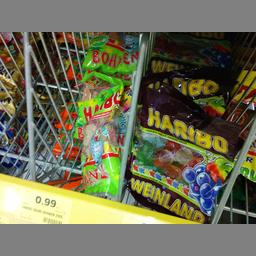candy: (126, 96, 236, 221), (66, 81, 126, 198)
